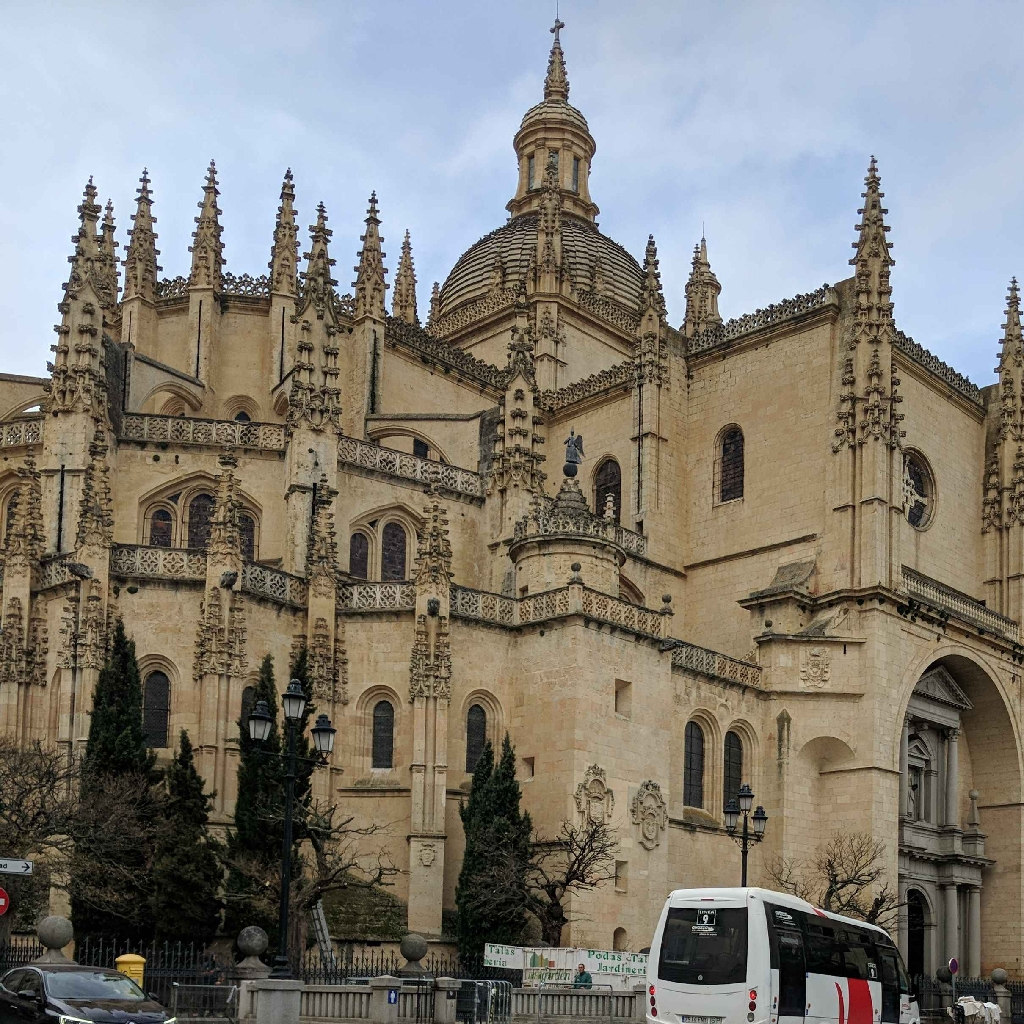arco-medio-punto: (897, 646, 1024, 771)
fronton: (910, 668, 977, 712)
pinaculo-gotico: (839, 142, 900, 309), (65, 162, 121, 301), (182, 154, 231, 282), (259, 157, 300, 295), (73, 419, 116, 541), (123, 164, 159, 297), (986, 263, 1024, 385), (412, 472, 454, 582), (209, 447, 246, 556), (351, 189, 389, 295), (6, 446, 43, 548), (307, 473, 340, 582), (303, 200, 339, 290), (391, 227, 421, 315), (637, 231, 667, 318), (683, 242, 711, 319)
